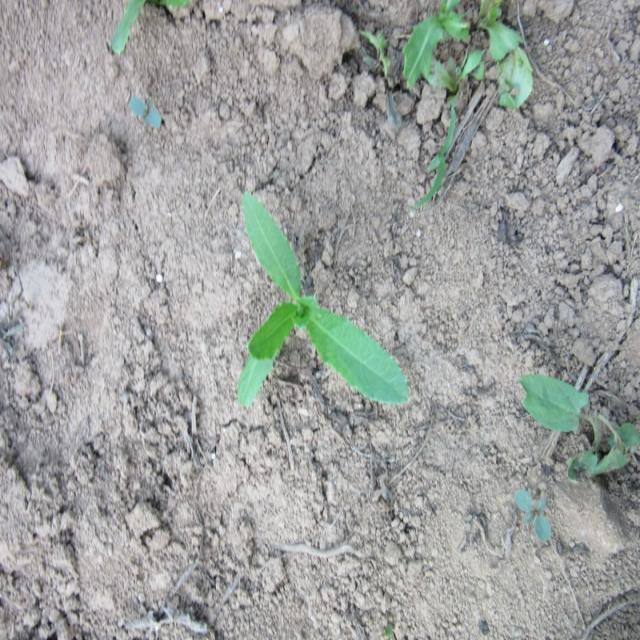cs: (236, 186, 411, 414)
